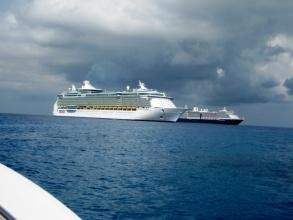youlun: (49, 79, 189, 120), (182, 105, 246, 124)
